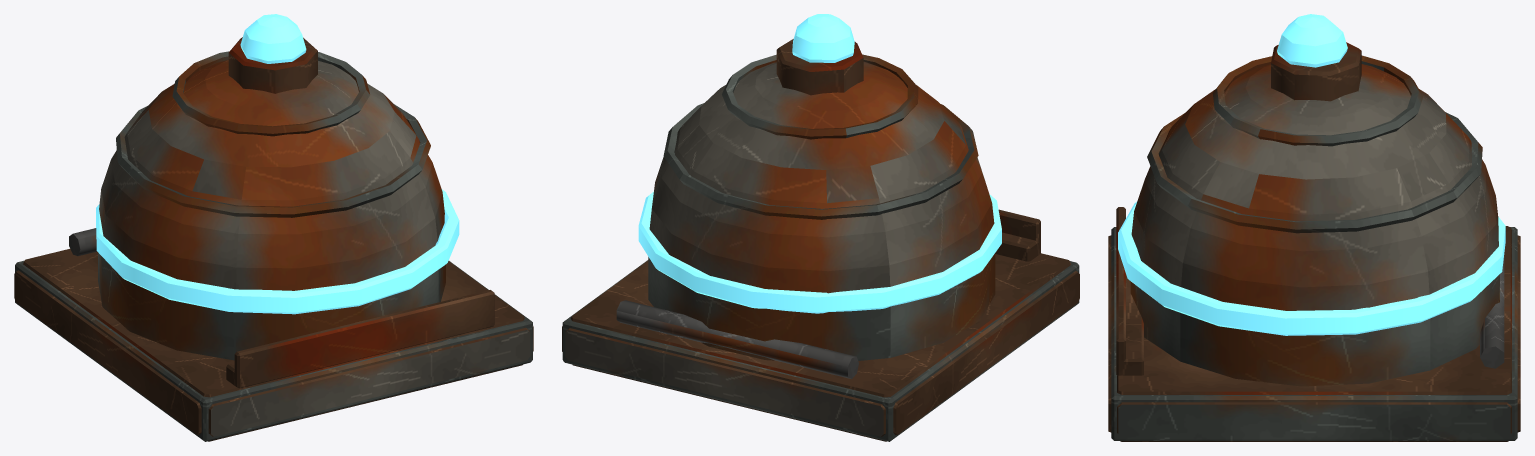
Rendered from R4X_PersonalShield.glb.
The picture shows the model from 3 angles, left to right: view 1: azimuth 30°, elevation 25°; view 2: azimuth 150°, elevation 25°; view 3: azimuth 270°, elevation 25°; orthographic projection. The views are drawn at different scales.
Visible parts, largest first — view 1: R4X_PersonalShield_Body; view 2: R4X_PersonalShield_Body; view 3: R4X_PersonalShield_Body.
Part boxes in pixels (x1,y1,x2,y2): R4X_PersonalShield_Body: (14,14,533,441); R4X_PersonalShield_Body: (562,14,1079,441); R4X_PersonalShield_Body: (1108,14,1520,441).
Size of the model in its own units: 0.52 by 0.475 by 0.52.
5 materials, 4 textured.
